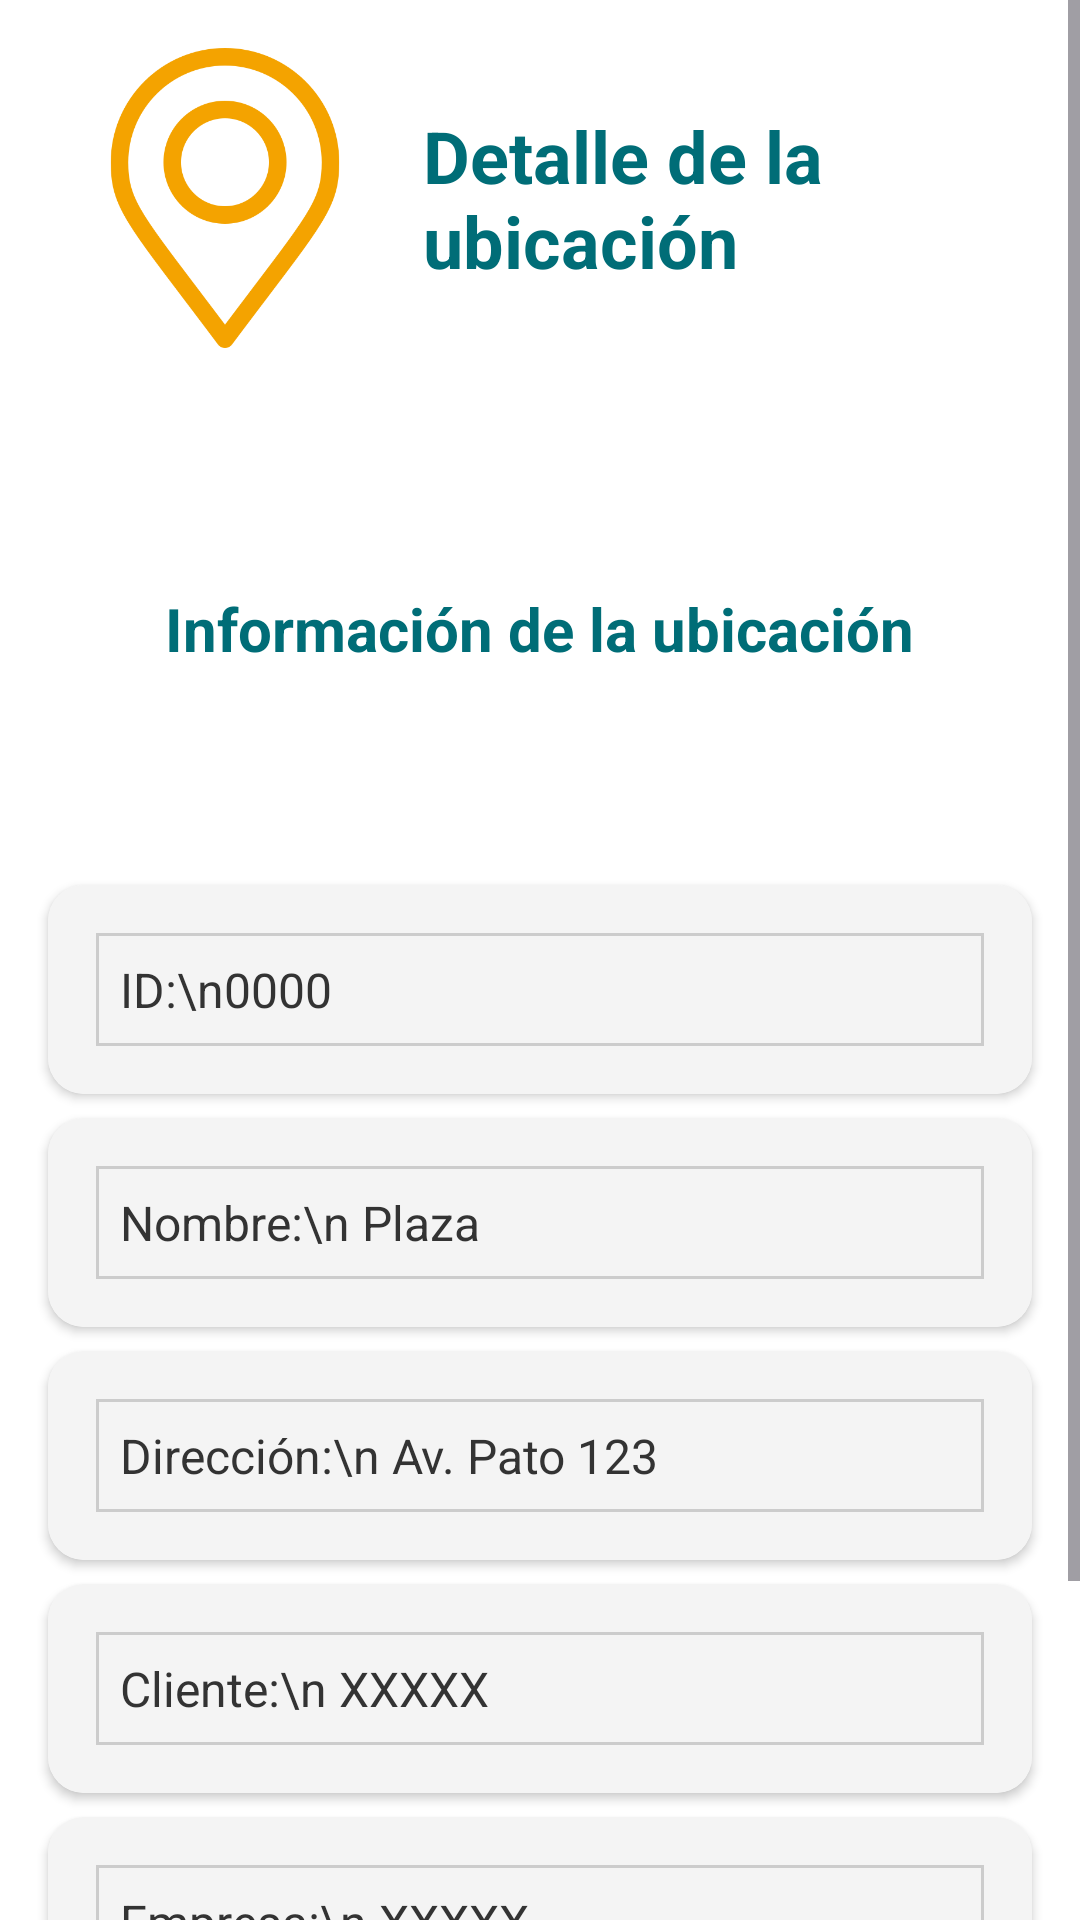

Named icons in this screenshot (1080px×1920px) and their centers, point (x, y):
localizacion: point (225, 198)
